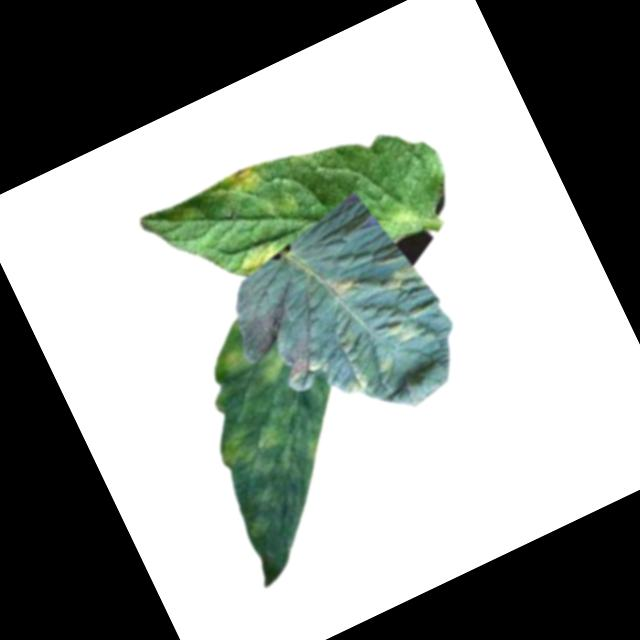Leaf_Mold: (209, 394, 327, 496), (372, 253, 433, 306), (234, 236, 288, 284), (247, 340, 294, 390), (380, 309, 431, 354), (318, 265, 367, 310), (218, 162, 264, 205), (212, 344, 252, 384), (336, 366, 377, 402), (372, 353, 399, 379)
